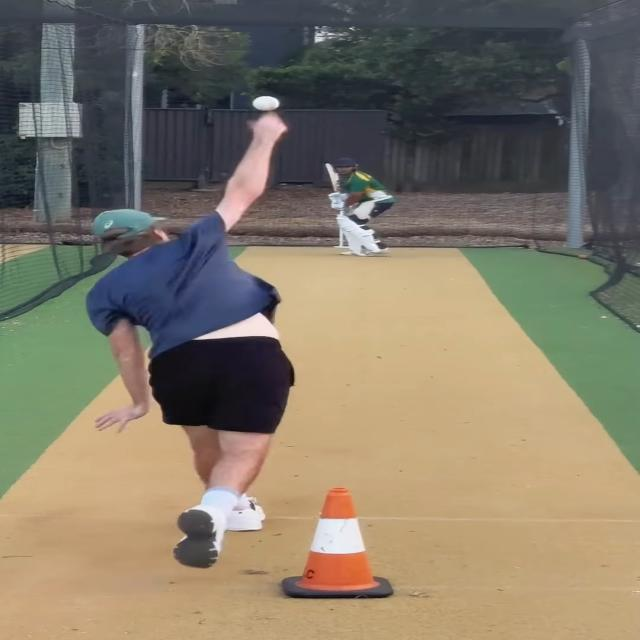Cricket ball: (247, 90, 288, 119)
